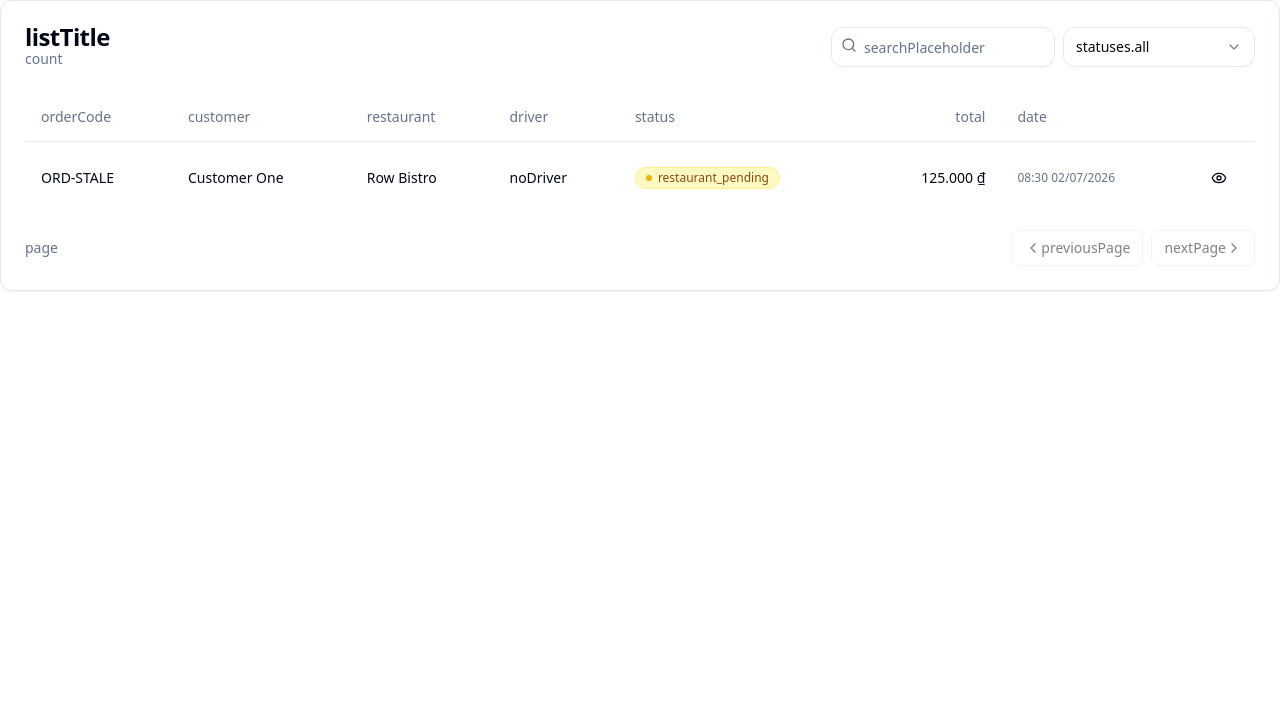
Test case: admin detail sheets › shows an order item contract error instead of rendering a fake empty item list
The image size is (1280, 711).
expect the text "ORD-STALE" is shown: met, box [25, 141, 172, 214]
Click the button named "viewOrder": (1219, 178) [1199, 158, 1239, 198]
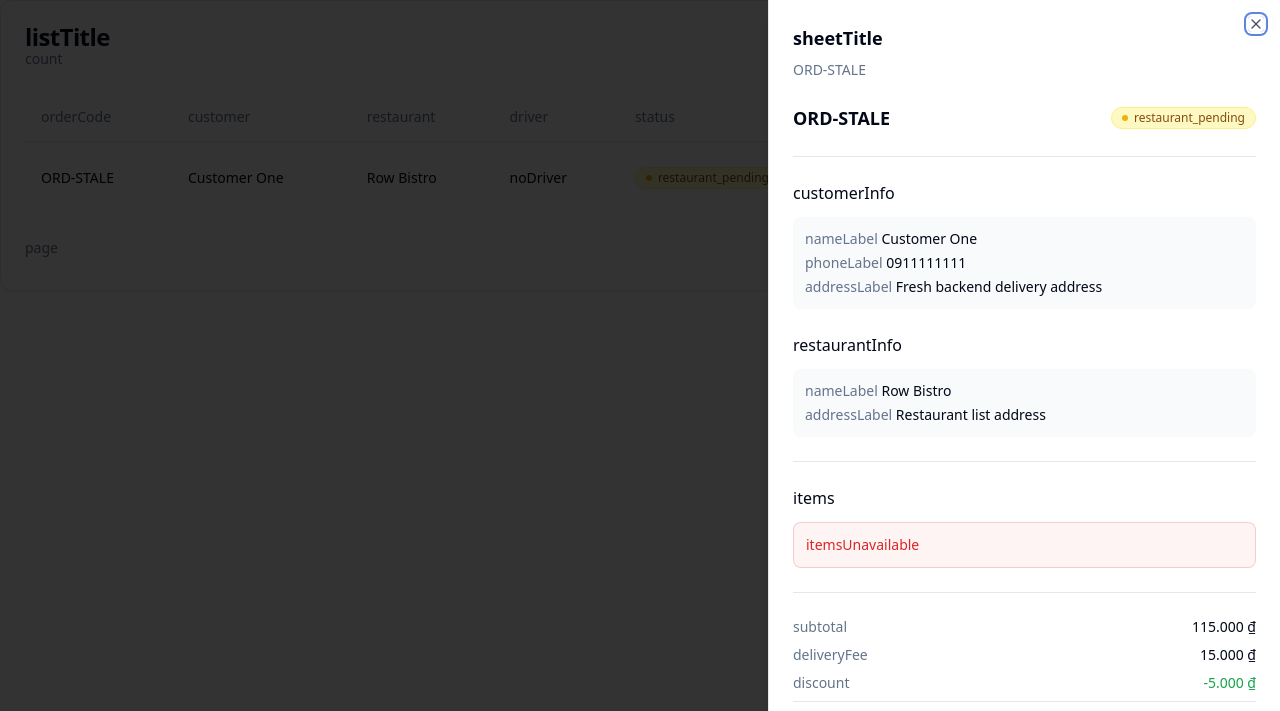
expect the text "itemsUnavailable" is shown: met, box [793, 522, 1256, 568]
expect the text "Fresh backend delivery address" is shown: met, box [896, 277, 1102, 296]
